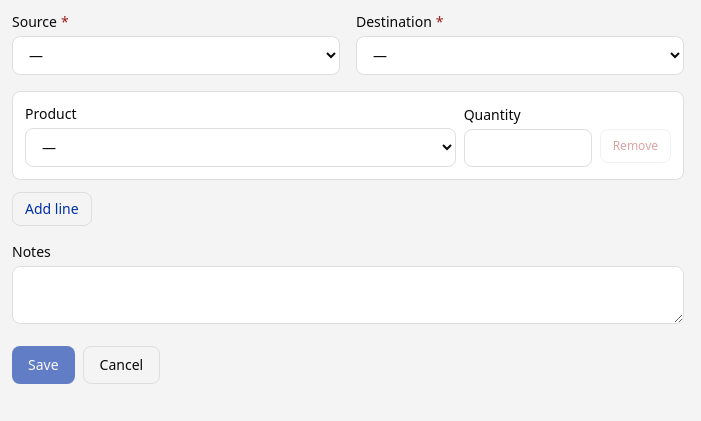
TransferForm › allows submitting a line quantity within what's available at the source
The image size is (701, 421).
Step 1. Select "Main" in the dropdown labelled "Source" → (176, 56), box [12,36,340,75]
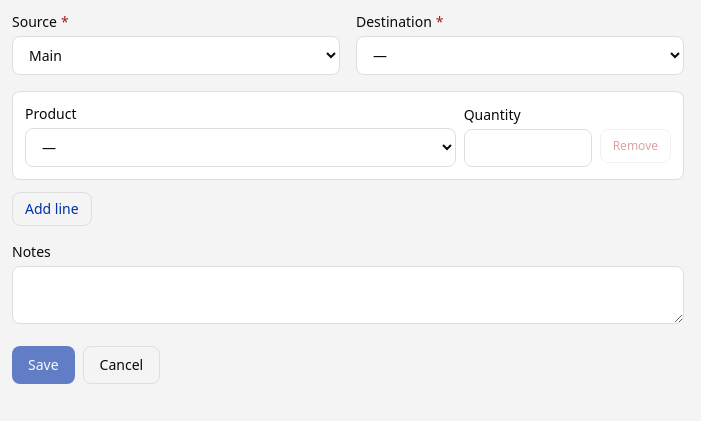
Step 2. Select "Branch" in the dropdown labelled "Destination" → (520, 56), box [356,36,684,75]
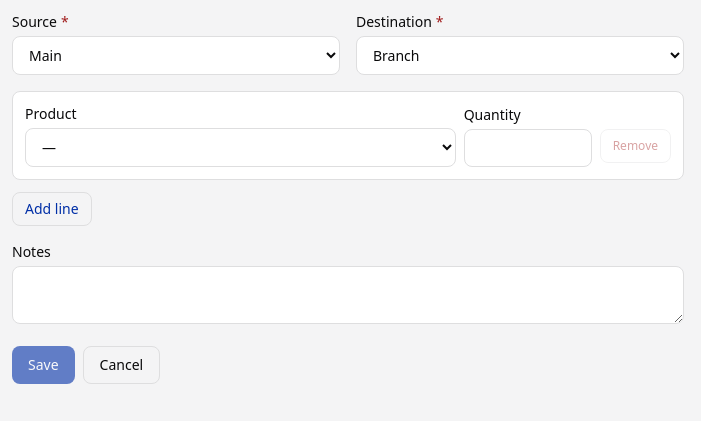
Step 3. Select "Product 1" in the dropdown labelled "Product" → (240, 148), box [25,128,456,167]
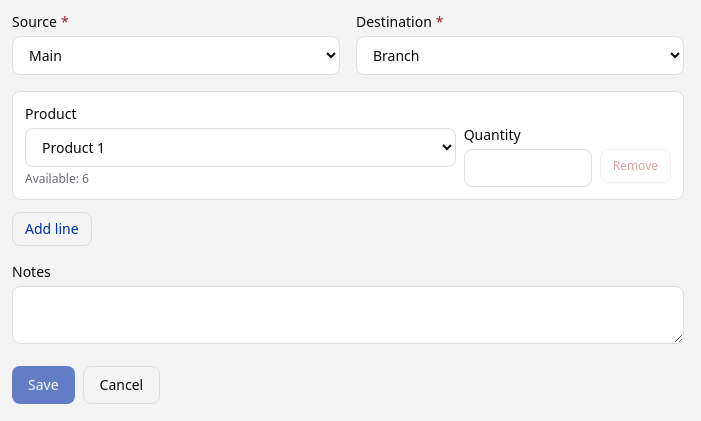
Step 4. Type "6" into the number field labelled "Quantity" → (528, 168), box [464,149,592,187]
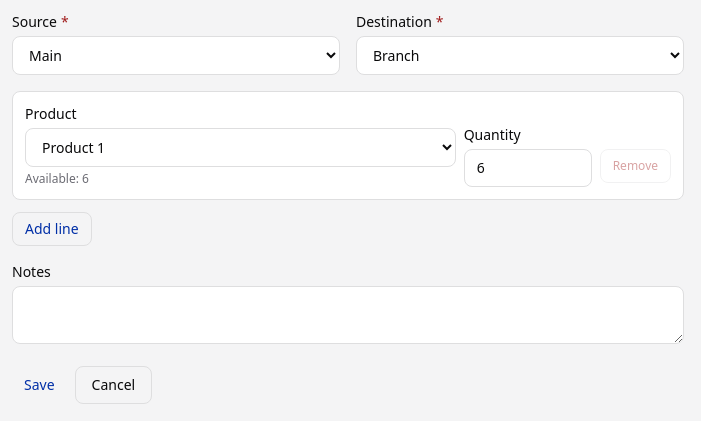
Expected: the button "Save" is enabled, [12,366,67,404]
